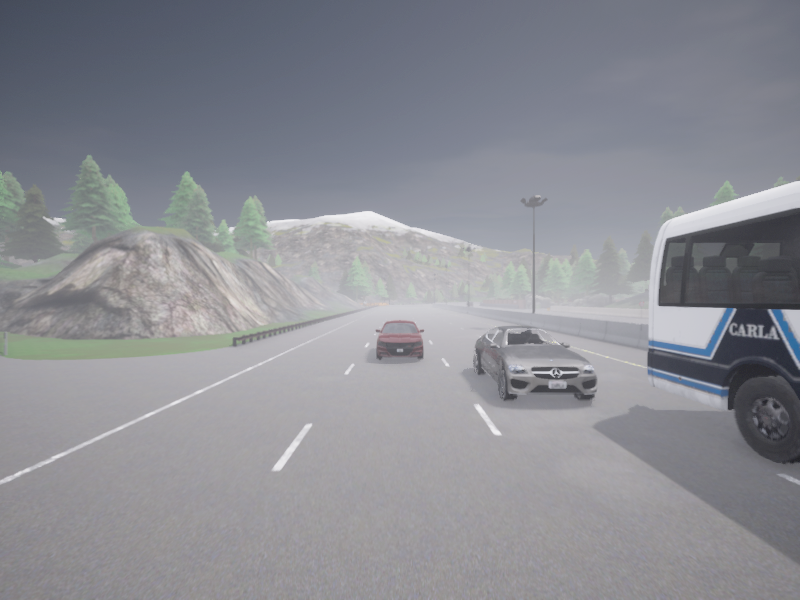vehicle: (647, 181, 799, 462), (474, 326, 596, 400), (375, 320, 424, 359), (466, 301, 472, 305)
